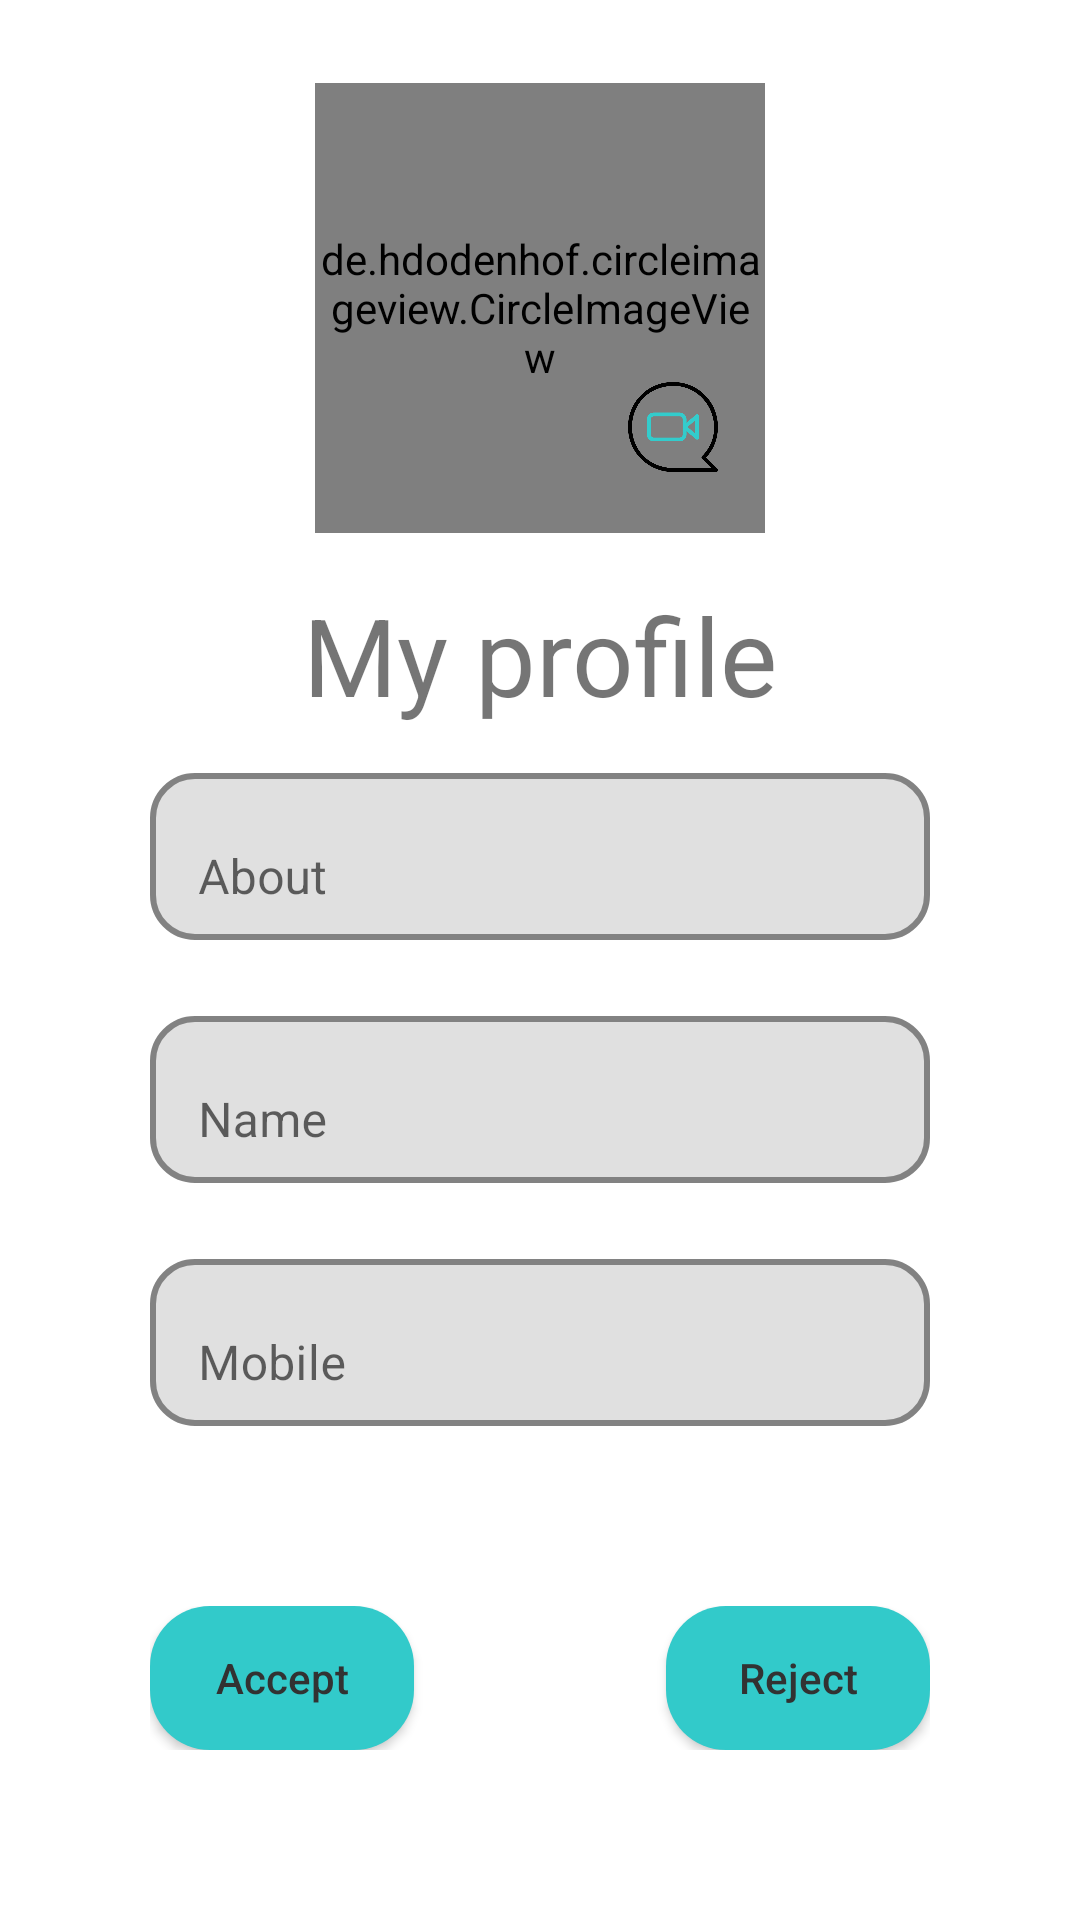

Point at icon controls on the screen. Image size 1080x1920, points as point (x, y).
video: point (673, 427)
